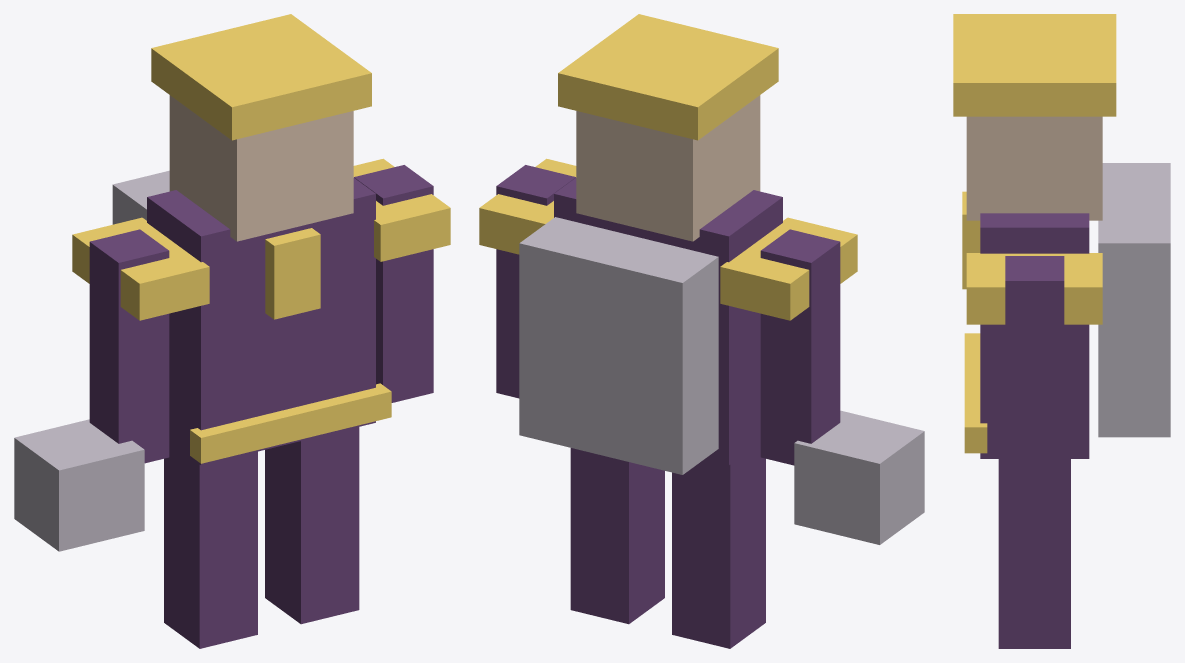
File: 05_mirek_cragwarden_watcher_near_loading.glb
The picture shows the model from 3 angles, left to right: view 1: azimuth 30°, elevation 25°; view 2: azimuth 150°, elevation 25°; view 3: azimuth 270°, elevation 25°; orthographic projection.
Parts seen in each view (by area): view 1: Mirek Cragwarden, Watcher near Loading; view 2: Mirek Cragwarden, Watcher near Loading; view 3: Mirek Cragwarden, Watcher near Loading.
Part boxes in pixels (<box>): Mirek Cragwarden, Watcher near Loading: <box>14,14,450,648</box>; Mirek Cragwarden, Watcher near Loading: <box>479,14,924,648</box>; Mirek Cragwarden, Watcher near Loading: <box>953,14,1170,648</box>.
Bounding box in the file's own units: 1.08 × 1.48 × 0.5203.
